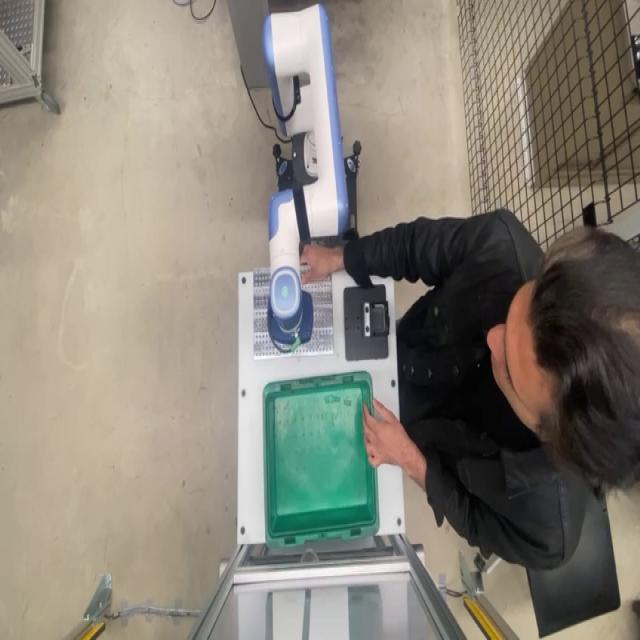human: (298, 207, 639, 570)
robot: (260, 1, 360, 354)
